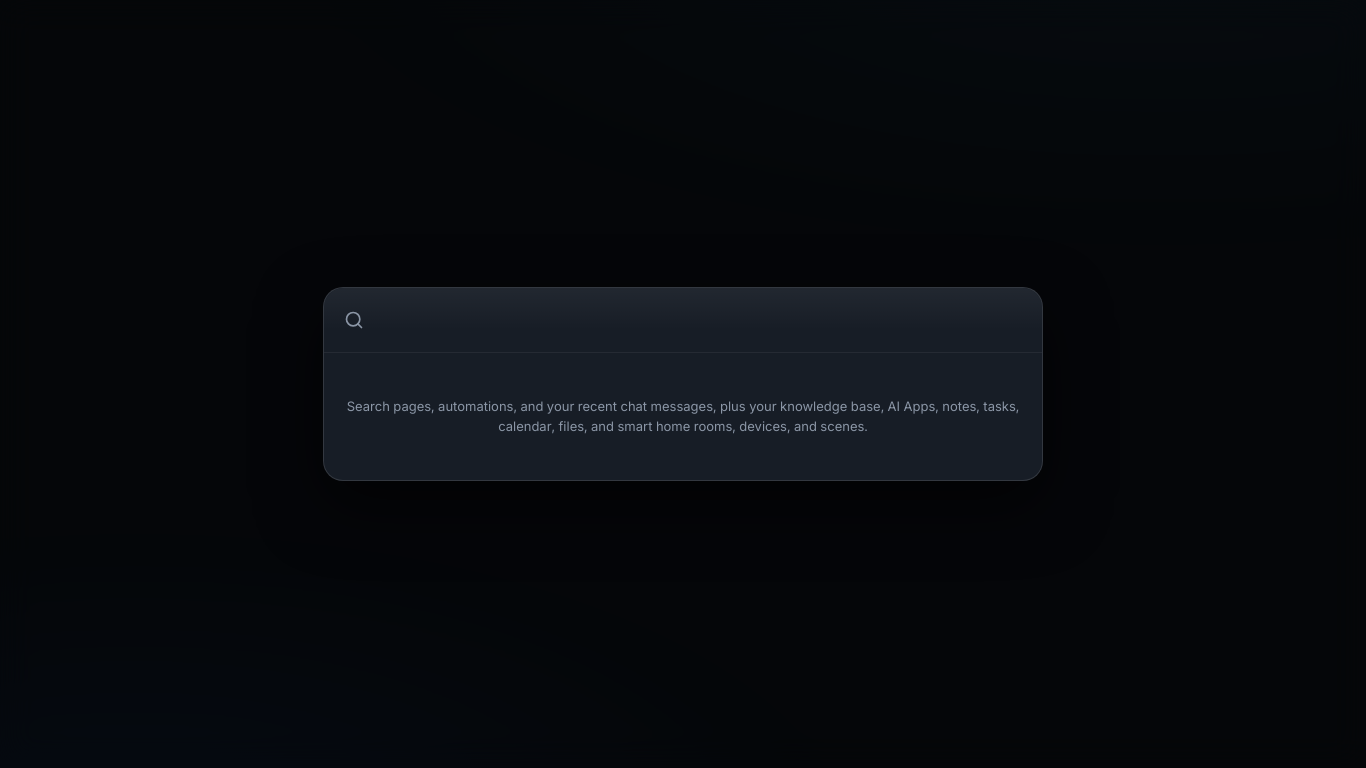
Scenario: UniversalSearch › clicking a result navigates (with its navState) and closes the overlay
The width and height of the screenshot is (1366, 768).
Type "br" into the dropdown named "search" at coordinates (699, 320), box 376,288 -> 1022,352
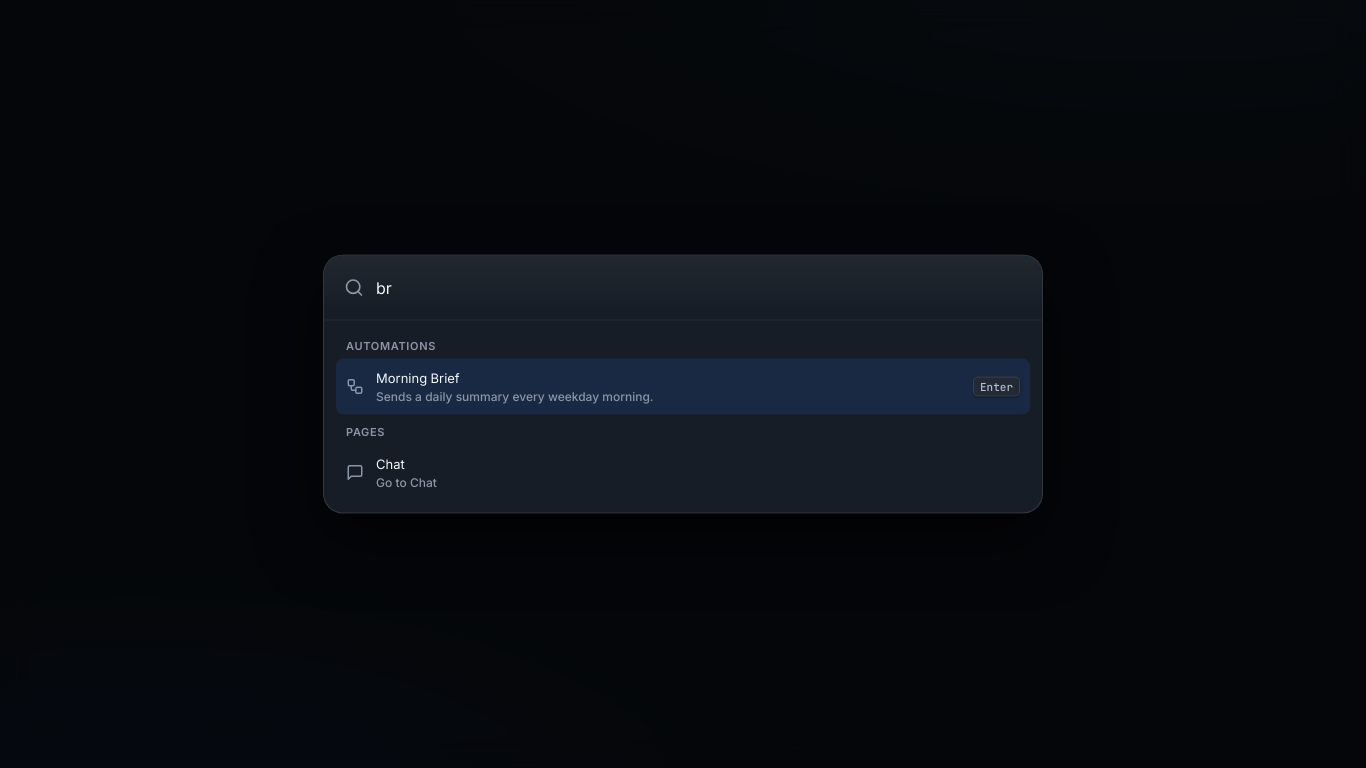
Result: the option with test id "search-result-automation-auto-1" is shown
Click the option with test id "search-result-automation-auto-1" at coordinates (418, 378), box 336,359 -> 1030,414
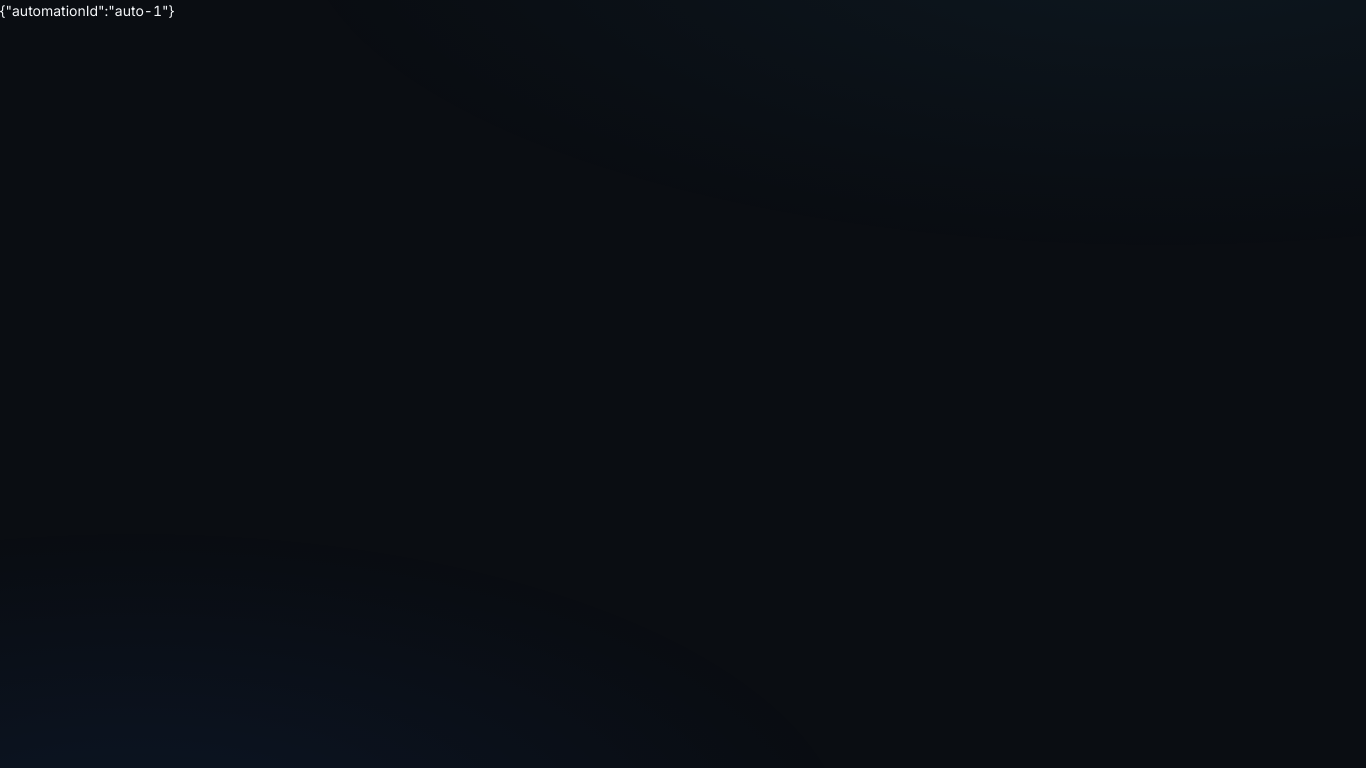
Result: the text with test id "automations-marker" shows "automationId" at 0,2 -> 174,19
